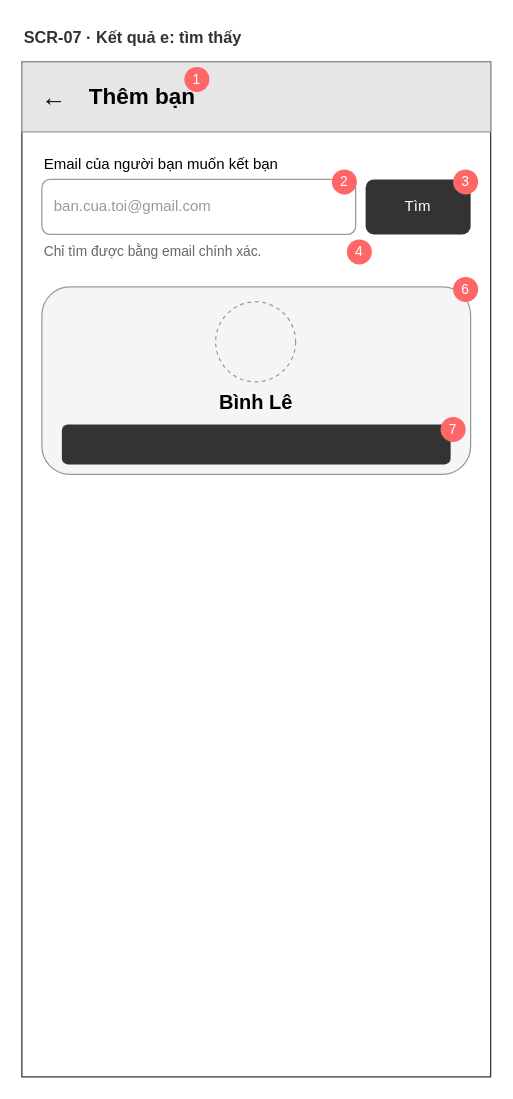
The diagram is 513 pixels wide and 1099 high, and some of its shapes have lost their labels. The centre of each missing label's shape, as x and y in pixels:
"Gửi lời mời" belongs at [255,444].
"Ảnh" belongs at [255,341].
